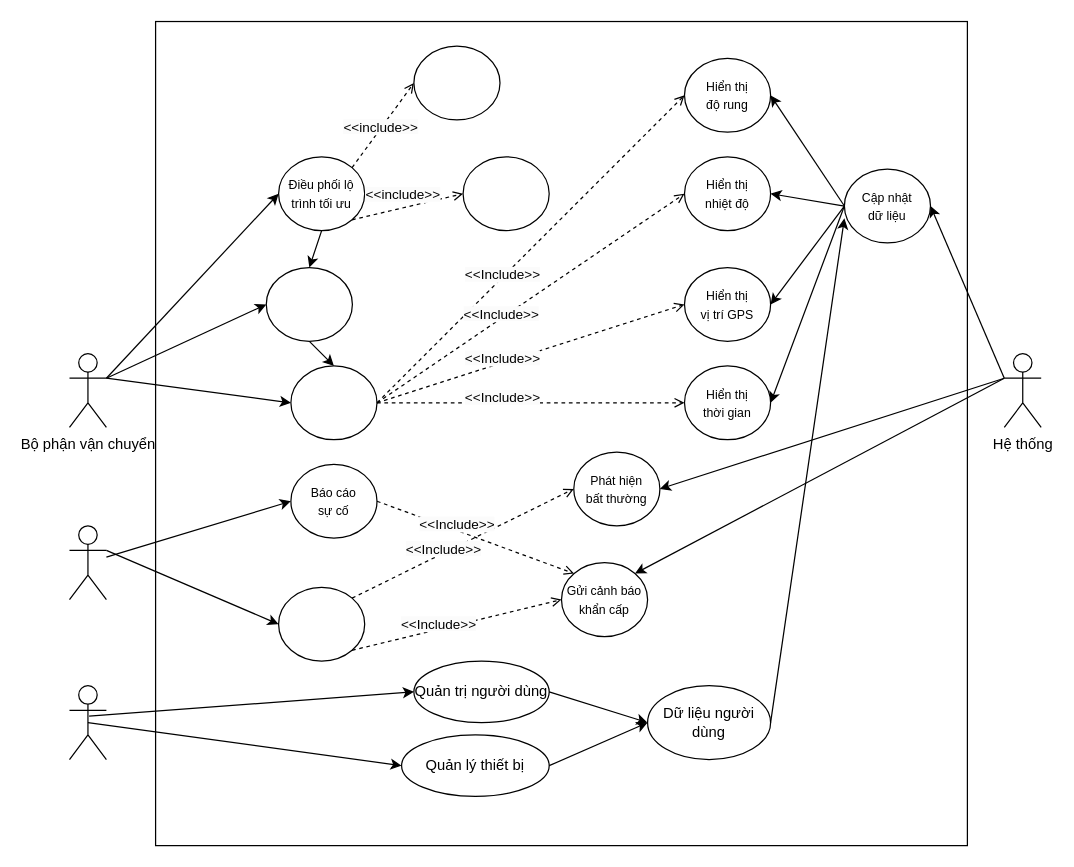
The diagram is 1074 pixels wide and 867 high, and some of its shapes have lost their labels. Each missing label, with the centre of its shape:
Bộ phận an ninh: [87,562]
Cập nhật trạng thái vận chuyển: [333,402]
Giám sát vận chuyển: [321,623]
Nhận lệnh vận chuyển: [308,303]
Quản lý lộ trình: [505,193]
Quản lý phương tiện: [456,82]
Quản trị viên: [87,722]
